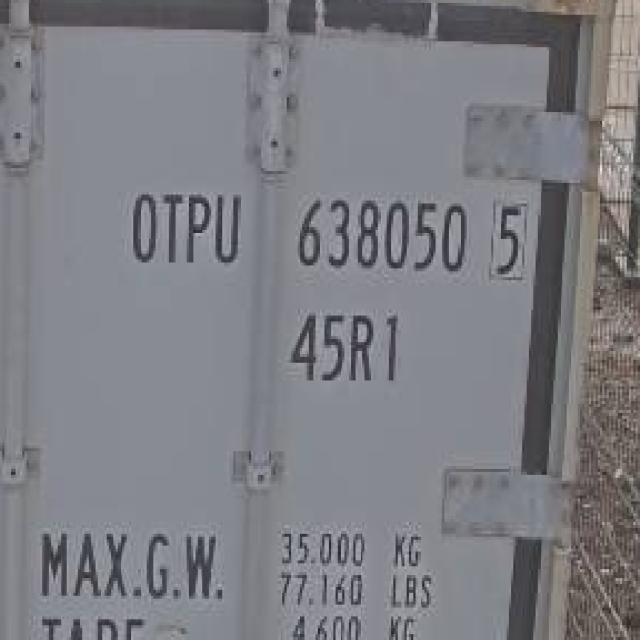dv: (486, 193, 530, 289)
owner: (125, 181, 250, 270)
serial: (291, 185, 468, 286)
size: (286, 305, 411, 391)
